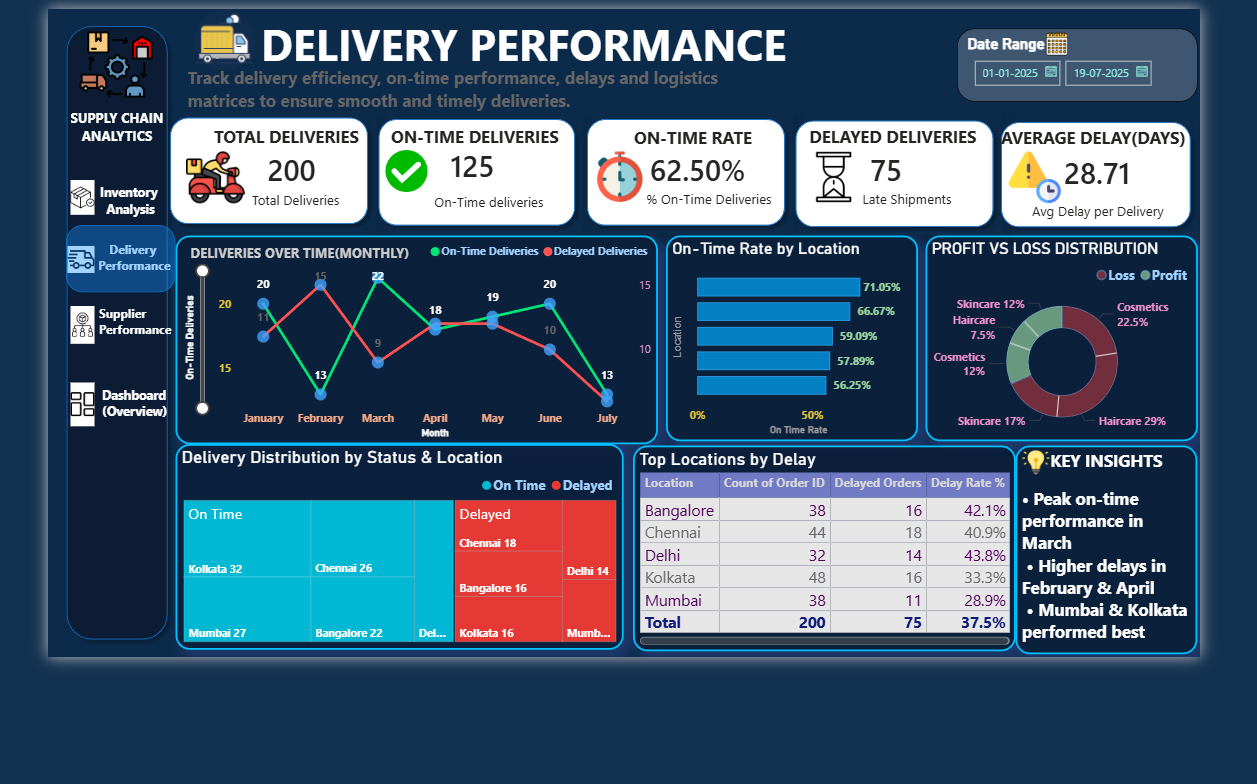

The page's visual inventory and layout, read from the dashboard file:
{"tool":"powerbi","page":{"name":"Dashboard(Overview)","canvas":[1366,768],"ordinal":0},"visuals":[{"type":"shape","box":[8.3,0,203.3,768.3],"z":0},{"type":"textbox","box":[253.7,11.3,764.3,87.3],"z":1000},{"type":"textbox","box":[218,53,791.9,63.6],"z":2000},{"type":"shape","box":[206.8,111.5,235.9,137.4],"z":3000},{"type":"textbox","box":[231.1,119.6,200.4,38.8],"z":4000},{"type":"cardVisual","fields":{"Data":["Key Measures.Total Orders"]},"box":[273.1,118,184.2,116.3],"z":5000},{"type":"textbox","box":[253.7,195.5,203.6,66.3],"z":6000},{"type":"shape","box":[431.5,111.5,247.2,137.4],"z":7000},{"type":"shape","box":[669,111.5,239.2,137.4],"z":8000},{"type":"textbox","box":[421.8,122.8,279.6,63],"z":9000},{"type":"cardVisual","fields":{"Data":["Key Measures.On Time Rate"]},"box":[505.8,87.3,200.4,189.1],"z":10000},{"type":"textbox","box":[407.2,205.2,305.4,30.7],"z":11000},{"type":"textbox","box":[565.6,119.6,479.9,33.9],"z":12000},{"type":"cardVisual","fields":{"Data":["Key Measures.Delay Rate %"]},"box":[732,103.4,189.1,143.8],"z":13000},{"type":"textbox","box":[712.6,197.1,179.4,32.3],"z":14000},{"type":"slicer","title":"Date Range","fields":{"Values":["Supply Chain Data.Order Date"]},"box":[1085.7,14.4,268.2,80.7],"z":15000},{"type":"image","box":[1191,10.1,28.8,41.8],"z":16000},{"type":"shape","box":[900.1,109.9,237.5,137.4],"z":17000},{"type":"textbox","box":[900.1,118,273.1,35.6],"z":18000},{"type":"textbox","box":[956.6,195.5,160,255.3],"z":19000},{"type":"cardVisual","fields":{"Data":["Key Measures.Avg Delay (Days)"]},"box":[959.9,137.4,245.6,72.7],"z":20000},{"type":"shape","box":[1133.3,111.7,228.3,135],"z":21000},{"type":"textbox","box":[1131.7,120,235,36.7],"z":22000},{"type":"textbox","box":[1194.2,205.2,171.3,38.8],"z":23000},{"type":"cardVisual","fields":{"Data":["Key Measures.Suppliers at Risk"]},"box":[1215,115,151.7,126.7],"z":24000},{"type":"image","box":[1145,151.7,75,60],"z":25000},{"type":"clusteredBarChart","title":"TOP DELAY LOCATIONS","fields":{"Y":["Key Measures.Defective Orders %"],"Category":["Supply Chain Data.Location"]},"box":[215,495,413.3,258.3],"z":26000},{"type":"donutChart","title":"DELAY DISTRIBUTION BY REASON","fields":{"Category":["Supply Chain Data.Delay Reason"],"Y":["Key Measures.Delayed Orders"]},"box":[870,246.7,483.3,236.7],"z":27000},{"type":"image","box":[206.8,14.5,46.9,43.6],"z":28000},{"type":"image","box":[231.1,148.7,85.6,54.9],"z":29000},{"type":"image","box":[441.2,158.4,119.6,46.9],"z":30000},{"type":"image","box":[686.8,158.4,61.4,46.9],"z":31000},{"type":"image","box":[924.3,101.8,69.5,150.3],"z":32000},{"type":"lineClusteredColumnComboChart","title":"ORDERS AND QUANTITY TREND","fields":{"Category":["Supply Chain Data.Order Date.Variation.Date Hierarchy.Month"],"Y":["Key Measures.Total Quantity"],"Y2":["Key Measures.Total Profit"]},"box":[215,248.3,636.7,235],"z":33000},{"type":"donutChart","title":"DELAY DISTRIBUTION BY REASON","fields":{"Y":["CountNonNull(Supply Chain Data.Order ID)"],"Category":["Supply Chain Data.Delay Reason"]},"box":[643.3,495,441.7,258.3],"z":34000},{"type":"gauge","title":"Delay Rate Performance","fields":{"Y":["Key Measures.Delay Rate %"]},"box":[1085,495,268,258],"z":35000},{"type":"image","box":[60,5,100,98.3],"z":36000},{"type":"image","box":[21.7,180,46.7,48.3],"z":37000,"group":"g1"},{"type":"image","box":[20,323.3,46.7,48.3],"z":37000},{"type":"image","box":[21.7,248.4,41.7,58.3],"z":38000,"group":"g2"},{"type":"image","box":[20,396.7,43.3,53.3],"z":38000},{"type":"textbox","box":[36.7,101.7,216.7,86.7],"z":39000},{"type":"textbox","box":[80,323.3,135,70],"z":40000},{"type":"textbox","box":[80,393.3,166.7,60],"z":41000},{"type":"textbox","box":[80,185,126.7,56.7],"z":42000,"group":"g1"},{"type":"shape","box":[15,413.3,188.3,125],"z":42000},{"type":"textbox","box":[78.4,251.7,186.7,55],"z":43000,"group":"g2"},{"type":"textbox","box":[20,476.7,300,38.3],"z":43000},{"type":"textbox","box":[16.7,515,300,53.3],"z":44000},{"type":"textbox","box":[16.7,566.7,300,56.7],"z":45000},{"type":"textbox","box":[6.7,623.3,300,58.3],"z":46000},{"type":"textbox","box":[16.7,681.7,201.7,86.7],"z":47000},{"type":"shape","box":[16.7,386.7,175,73.3],"z":48000},{"type":"group","id":"g1","title":"Group 1","box":[21.7,174.4,185,70],"z":49000},{"type":"actionButton","box":[22.2,329.4,178.3,51.7],"z":50000},{"type":"group","id":"g2","title":"Group 2","box":[15.6,247.8,249.4,58.9],"z":51000},{"type":"actionButton","box":[27.3,174.4,166.7,70],"z":52002,"group":"g1"},{"type":"actionButton","box":[15.6,247.8,183.3,53.3],"z":52005,"group":"g2"}]}

Visuals, with their boxes on the page's 1366x768 design canvas (x1, y1, x2, y2). These are canvas units, not pixel positions in the 1257x784 screenshot, which may show the page scaled, cropped or inside an application window:
shape: pyautogui.locateOnScreen(8, 0, 212, 768)
textbox: pyautogui.locateOnScreen(254, 11, 1018, 99)
textbox: pyautogui.locateOnScreen(218, 53, 1010, 117)
shape: pyautogui.locateOnScreen(207, 112, 443, 249)
textbox: pyautogui.locateOnScreen(231, 120, 432, 158)
cardVisual - Key Measures.Total Orders: pyautogui.locateOnScreen(273, 118, 457, 234)
textbox: pyautogui.locateOnScreen(254, 196, 457, 262)
shape: pyautogui.locateOnScreen(432, 112, 679, 249)
shape: pyautogui.locateOnScreen(669, 112, 908, 249)
textbox: pyautogui.locateOnScreen(422, 123, 701, 186)
cardVisual - Key Measures.On Time Rate: pyautogui.locateOnScreen(506, 87, 706, 276)
textbox: pyautogui.locateOnScreen(407, 205, 713, 236)
textbox: pyautogui.locateOnScreen(566, 120, 1046, 154)
cardVisual - Key Measures.Delay Rate %: pyautogui.locateOnScreen(732, 103, 921, 247)
textbox: pyautogui.locateOnScreen(713, 197, 892, 229)
"Date Range" slicer: pyautogui.locateOnScreen(1086, 14, 1354, 95)
image: pyautogui.locateOnScreen(1191, 10, 1220, 52)
shape: pyautogui.locateOnScreen(900, 110, 1138, 247)
textbox: pyautogui.locateOnScreen(900, 118, 1173, 154)
textbox: pyautogui.locateOnScreen(957, 196, 1117, 451)
cardVisual - Key Measures.Avg Delay (Days): pyautogui.locateOnScreen(960, 137, 1206, 210)
shape: pyautogui.locateOnScreen(1133, 112, 1362, 247)
textbox: pyautogui.locateOnScreen(1132, 120, 1367, 157)
textbox: pyautogui.locateOnScreen(1194, 205, 1366, 244)
cardVisual - Key Measures.Suppliers at Risk: pyautogui.locateOnScreen(1215, 115, 1367, 242)
image: pyautogui.locateOnScreen(1145, 152, 1220, 212)
"TOP DELAY LOCATIONS" clusteredBarChart: pyautogui.locateOnScreen(215, 495, 628, 753)
"DELAY DISTRIBUTION BY REASON" donutChart: pyautogui.locateOnScreen(870, 247, 1353, 483)
image: pyautogui.locateOnScreen(207, 14, 254, 58)
image: pyautogui.locateOnScreen(231, 149, 317, 204)
image: pyautogui.locateOnScreen(441, 158, 561, 205)
image: pyautogui.locateOnScreen(687, 158, 748, 205)
image: pyautogui.locateOnScreen(924, 102, 994, 252)
"ORDERS AND QUANTITY TREND" lineClusteredColumnComboChart: pyautogui.locateOnScreen(215, 248, 852, 483)
"DELAY DISTRIBUTION BY REASON" donutChart: pyautogui.locateOnScreen(643, 495, 1085, 753)
"Delay Rate Performance" gauge: pyautogui.locateOnScreen(1085, 495, 1353, 753)
image: pyautogui.locateOnScreen(60, 5, 160, 103)
image: pyautogui.locateOnScreen(22, 180, 68, 228)
image: pyautogui.locateOnScreen(20, 323, 67, 372)
image: pyautogui.locateOnScreen(22, 248, 63, 307)
image: pyautogui.locateOnScreen(20, 397, 63, 450)
textbox: pyautogui.locateOnScreen(37, 102, 253, 188)
textbox: pyautogui.locateOnScreen(80, 323, 215, 393)
textbox: pyautogui.locateOnScreen(80, 393, 247, 453)
textbox: pyautogui.locateOnScreen(80, 185, 207, 242)
shape: pyautogui.locateOnScreen(15, 413, 203, 538)
textbox: pyautogui.locateOnScreen(78, 252, 265, 307)
textbox: pyautogui.locateOnScreen(20, 477, 320, 515)
textbox: pyautogui.locateOnScreen(17, 515, 317, 568)
textbox: pyautogui.locateOnScreen(17, 567, 317, 623)
textbox: pyautogui.locateOnScreen(7, 623, 307, 682)
textbox: pyautogui.locateOnScreen(17, 682, 218, 768)
shape: pyautogui.locateOnScreen(17, 387, 192, 460)
"Group 1" group: pyautogui.locateOnScreen(22, 174, 207, 244)
actionButton: pyautogui.locateOnScreen(22, 329, 200, 381)
"Group 2" group: pyautogui.locateOnScreen(16, 248, 265, 307)
actionButton: pyautogui.locateOnScreen(27, 174, 194, 244)
actionButton: pyautogui.locateOnScreen(16, 248, 199, 301)
